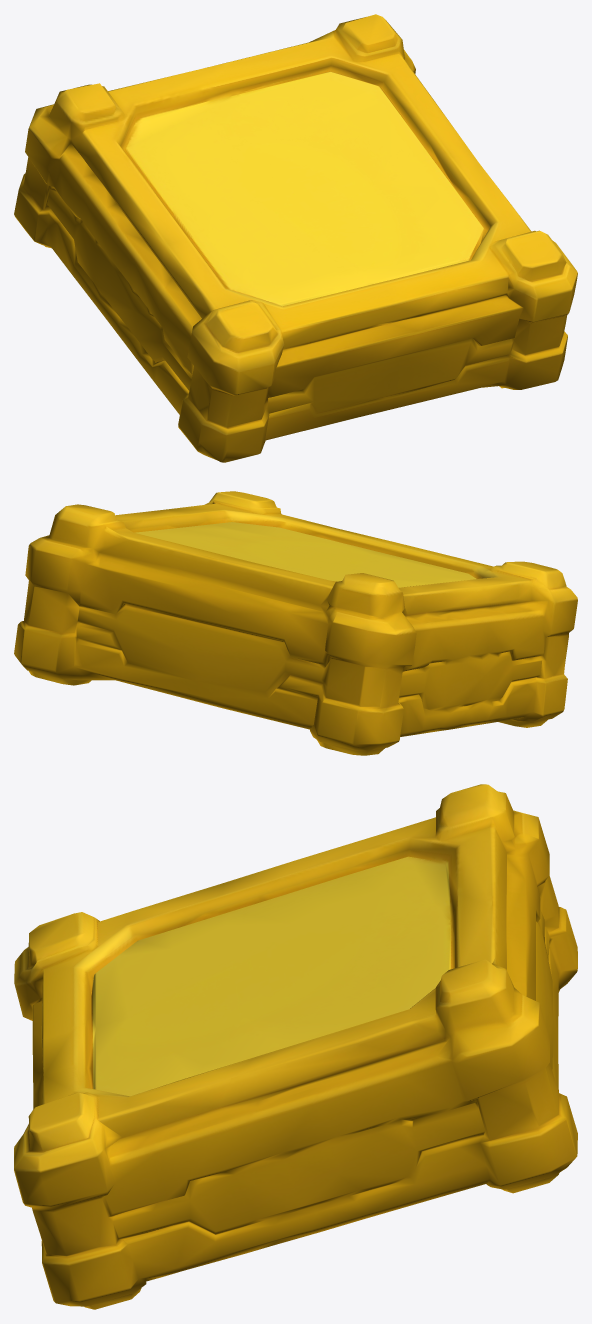
Rendered from prize.glb.
3 views of the same model, one above another, from view 1: azimuth 30°, elevation 25°; view 2: azimuth 150°, elevation 25°; view 3: azimuth 270°, elevation 25° (orthographic). The views are drawn at different scales.
Visible parts, largest first — view 1: tripo_node_6cbb9945-d59d-423e-8884-7793149ada29; view 2: tripo_node_6cbb9945-d59d-423e-8884-7793149ada29; view 3: tripo_node_6cbb9945-d59d-423e-8884-7793149ada29.
Boxes of the visible parts, box(x1,y1,x2,y2) form: tripo_node_6cbb9945-d59d-423e-8884-7793149ada29: box(14, 14, 577, 462); tripo_node_6cbb9945-d59d-423e-8884-7793149ada29: box(14, 491, 577, 755); tripo_node_6cbb9945-d59d-423e-8884-7793149ada29: box(14, 784, 577, 1309).
Bounding box in the file's own units: 0.9482 × 0.6267 × 0.9799.
1 material, 1 textured.
